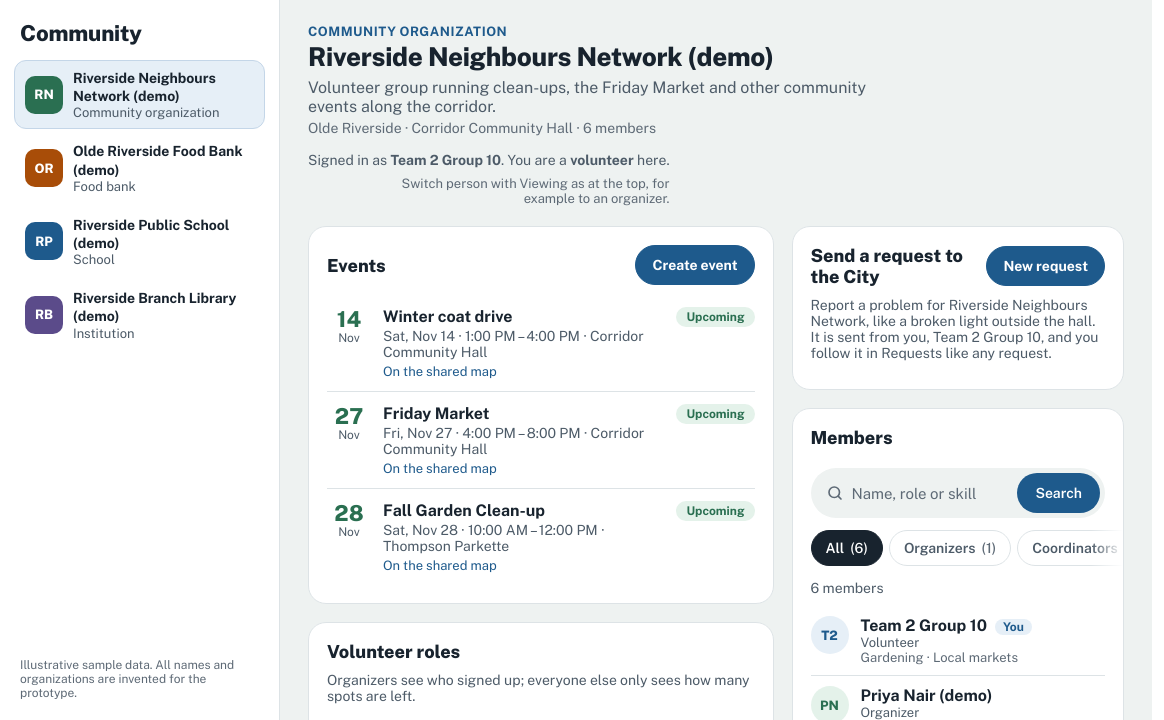
Test case: CommunityPage › only organizers can post service changes
Expected: the heading "Riverside Neighbours Network (demo)" is shown, [308, 41, 774, 72]
Click the button "RB Riverside Branch Library (demo) Institution" at (140, 315), box [14, 280, 265, 350]
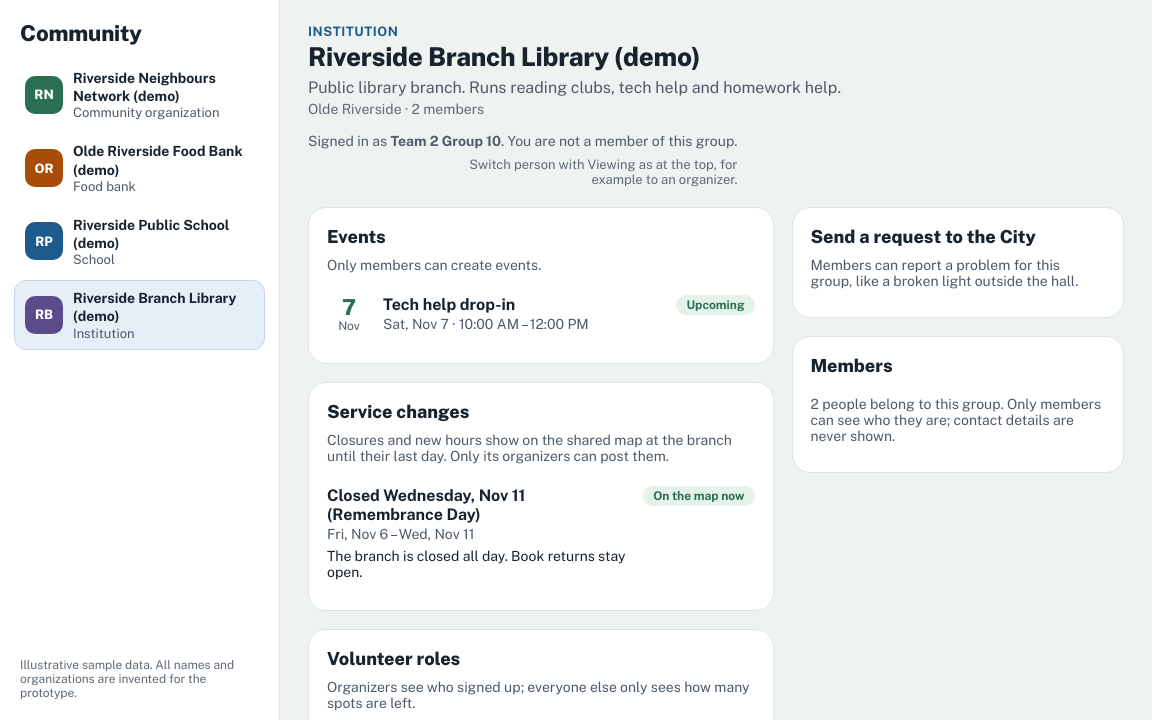
Expected: the heading "Riverside Branch Library (demo)" is shown, [308, 41, 700, 72]
Expected: the text "Only its organizers can post them" is shown, [447, 448, 669, 464]
